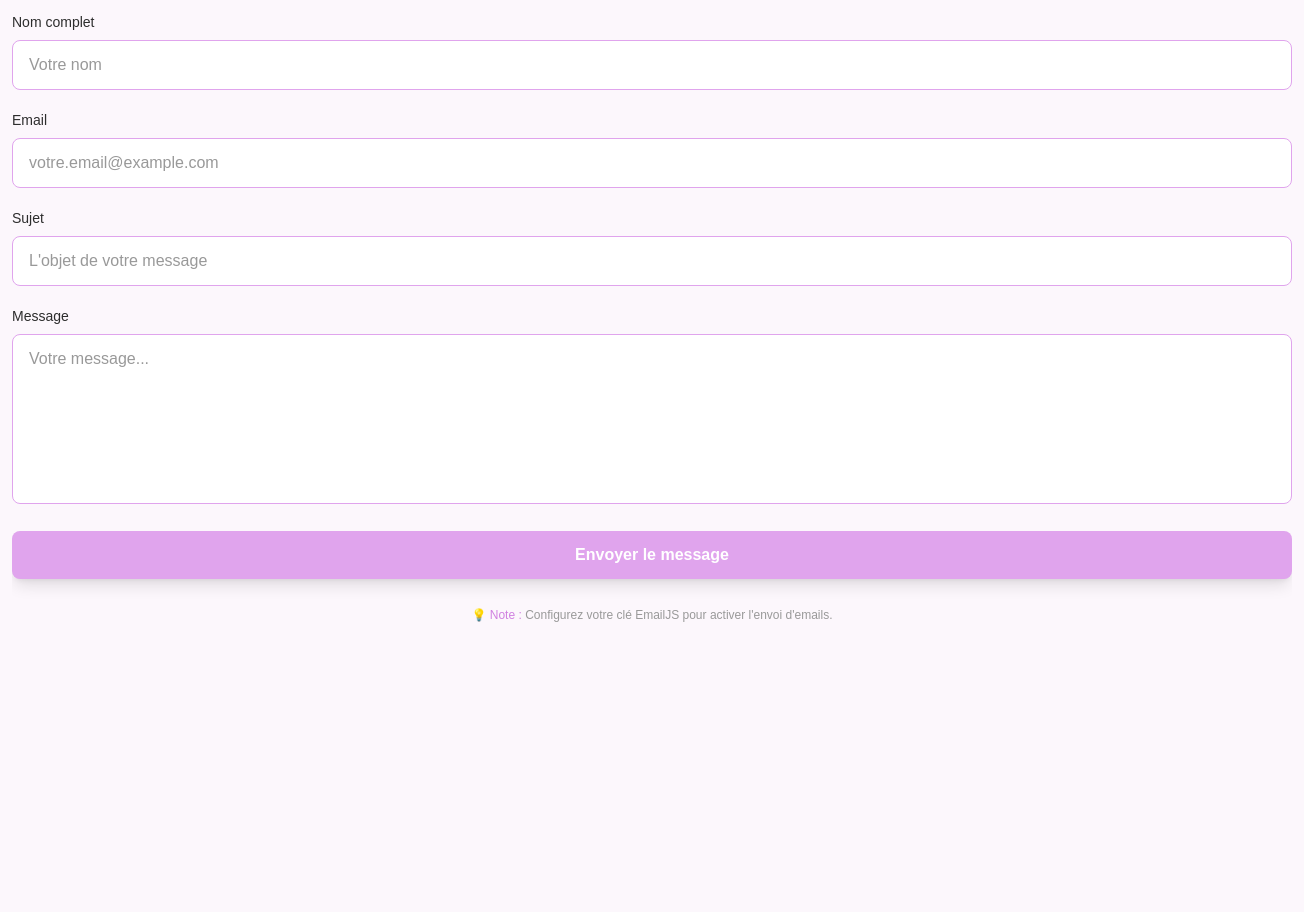
it: ContactForm › should show error when required fields are empty
Click the button "Envoyer le message" at (652, 555), box left=12, top=531, right=1292, bottom=579
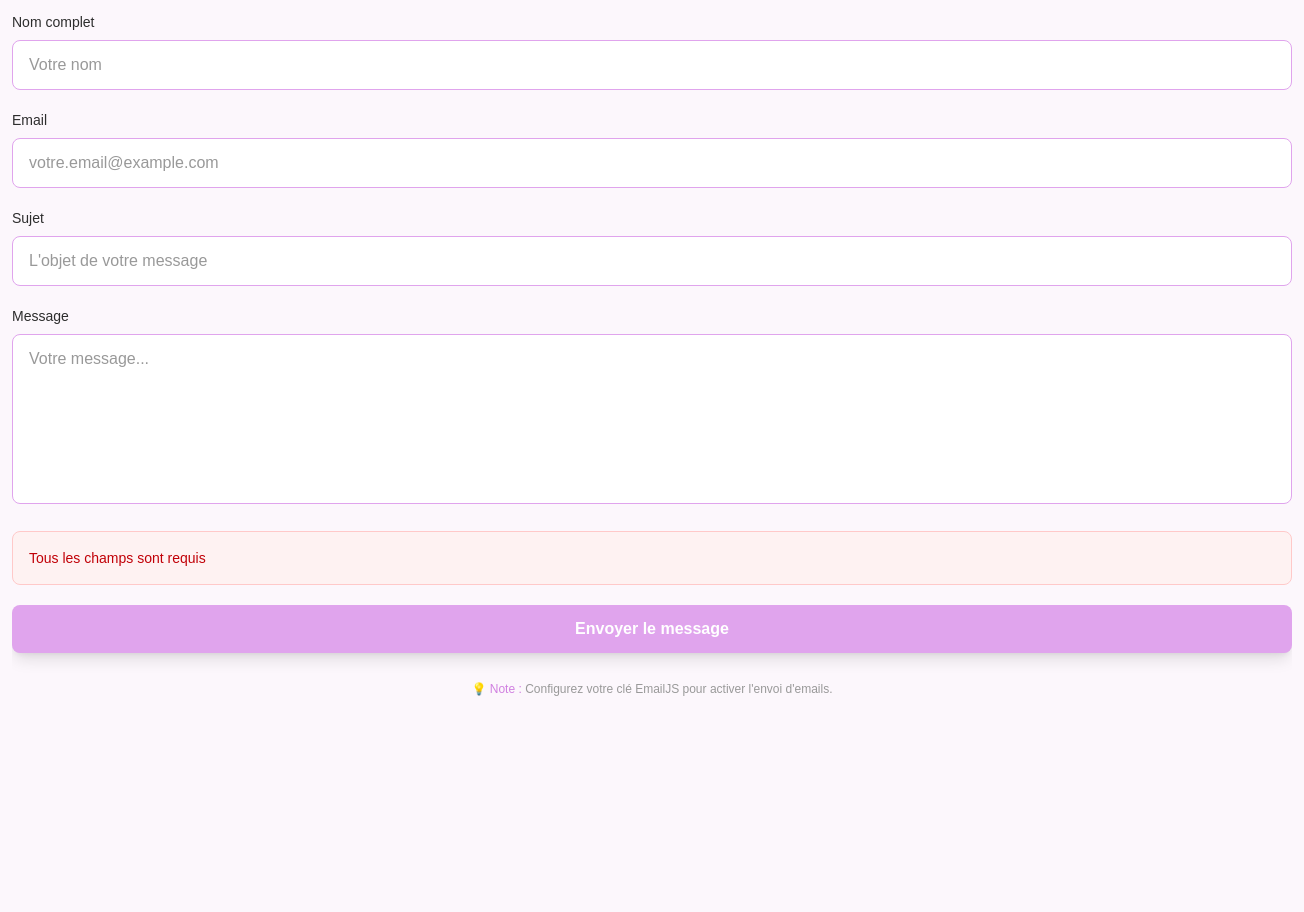
Check: the text "Tous les champs sont requis" is shown, box left=12, top=531, right=1292, bottom=585
